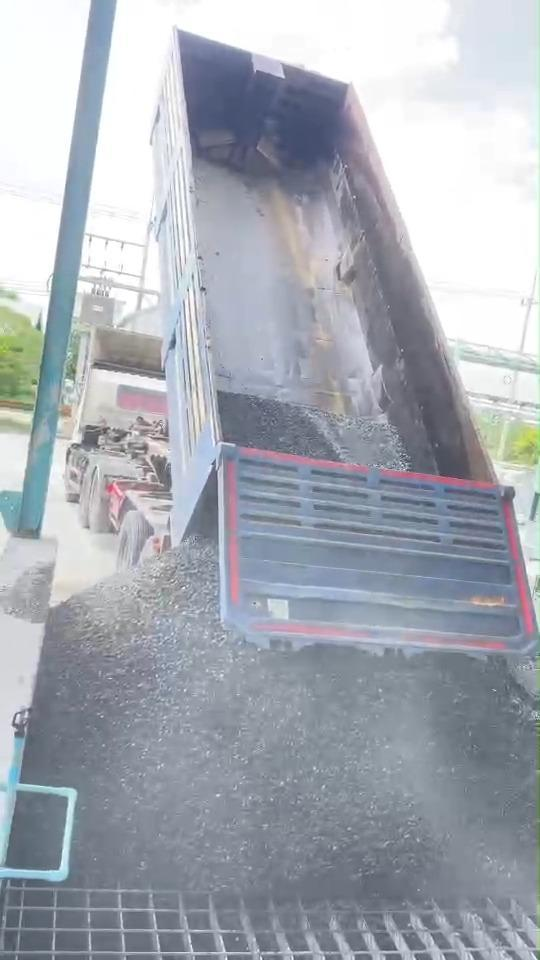gravel: (26, 540, 539, 899), (219, 393, 410, 470), (12, 794, 65, 867)
